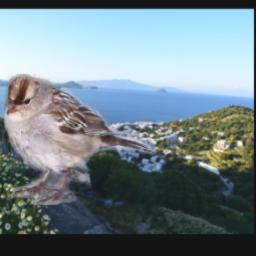Sparrow: (0, 75, 157, 206)
